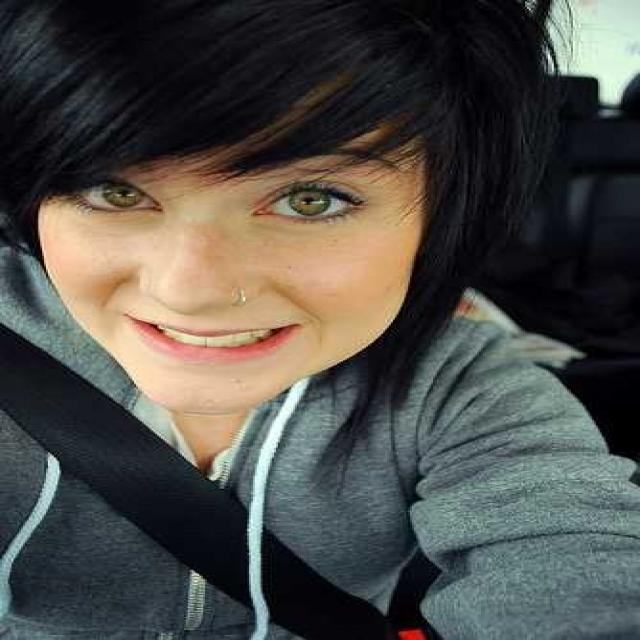seatbelt: (34, 321, 391, 630)
